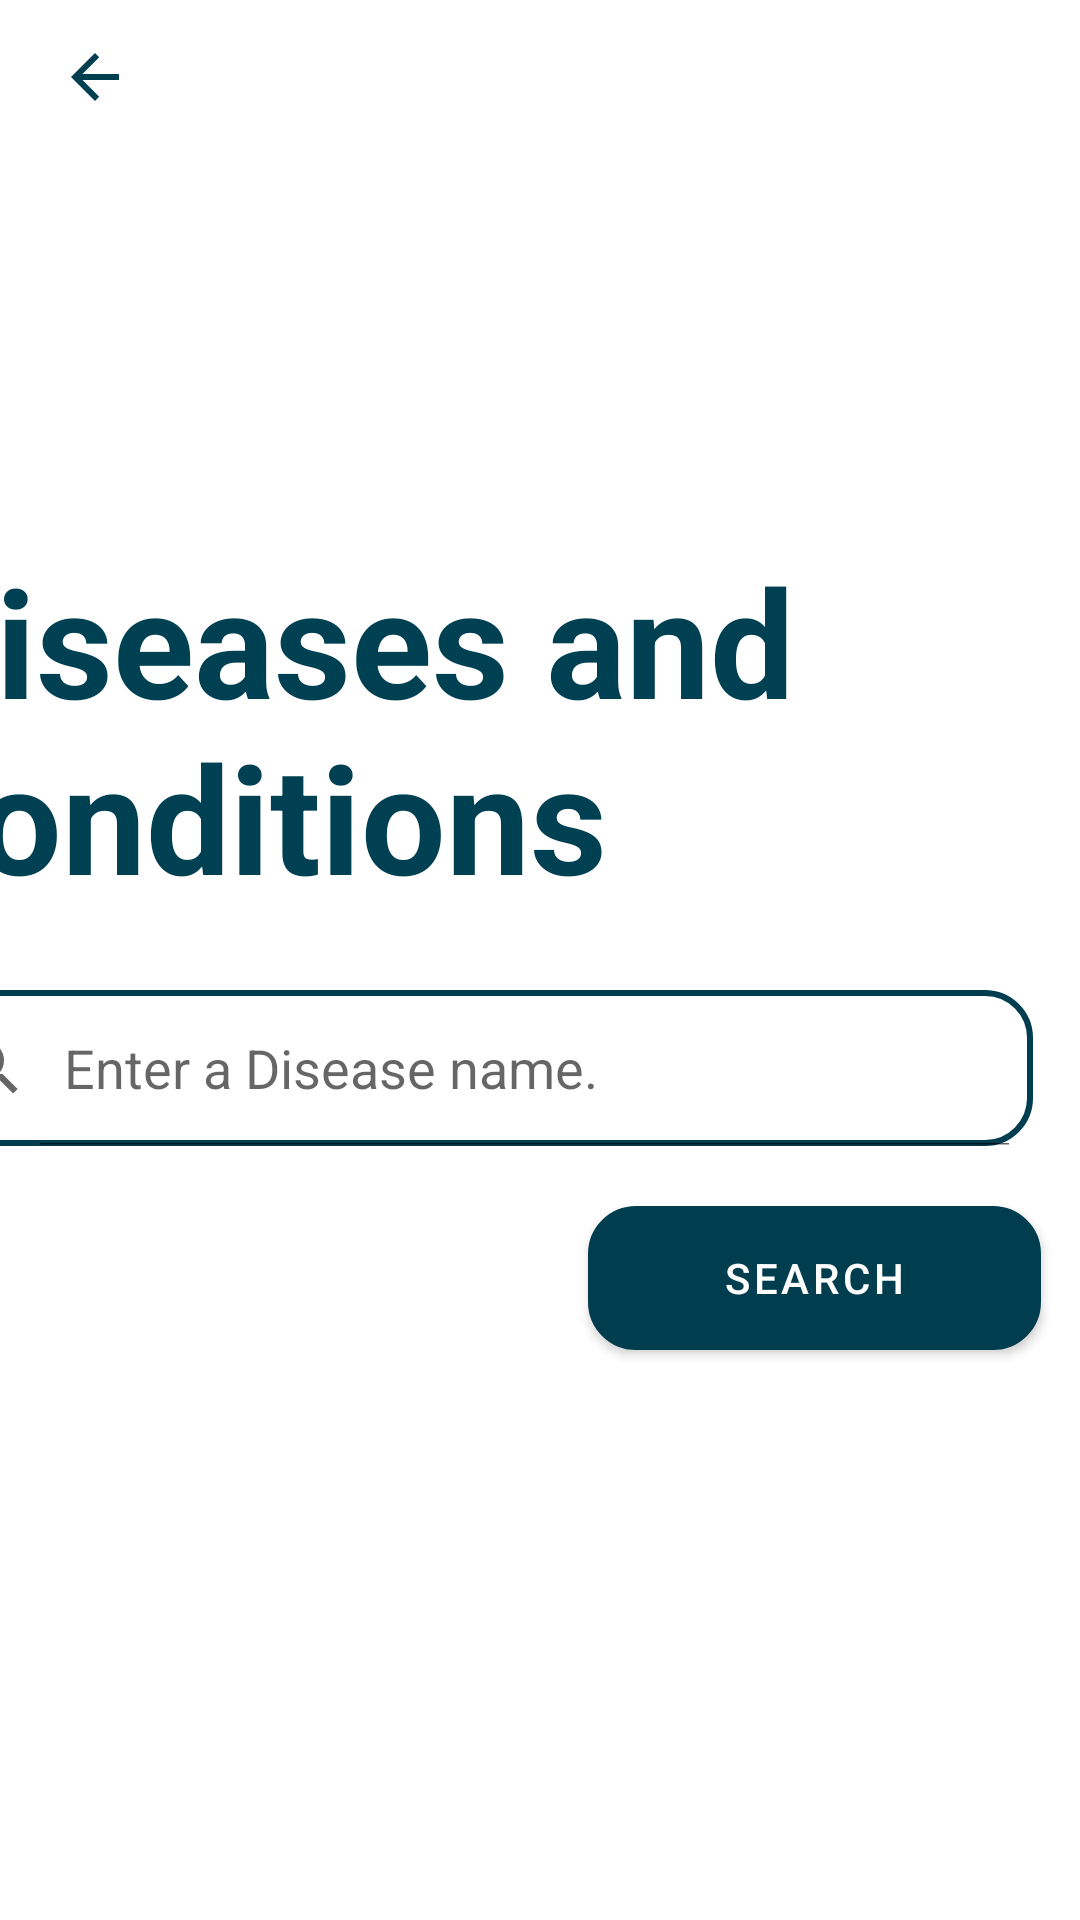

Screen size 1080 × 1920. Icon name, then its box in pixels as detection(x1, y1, x2, y2):
back: detection(71, 53, 119, 101)
